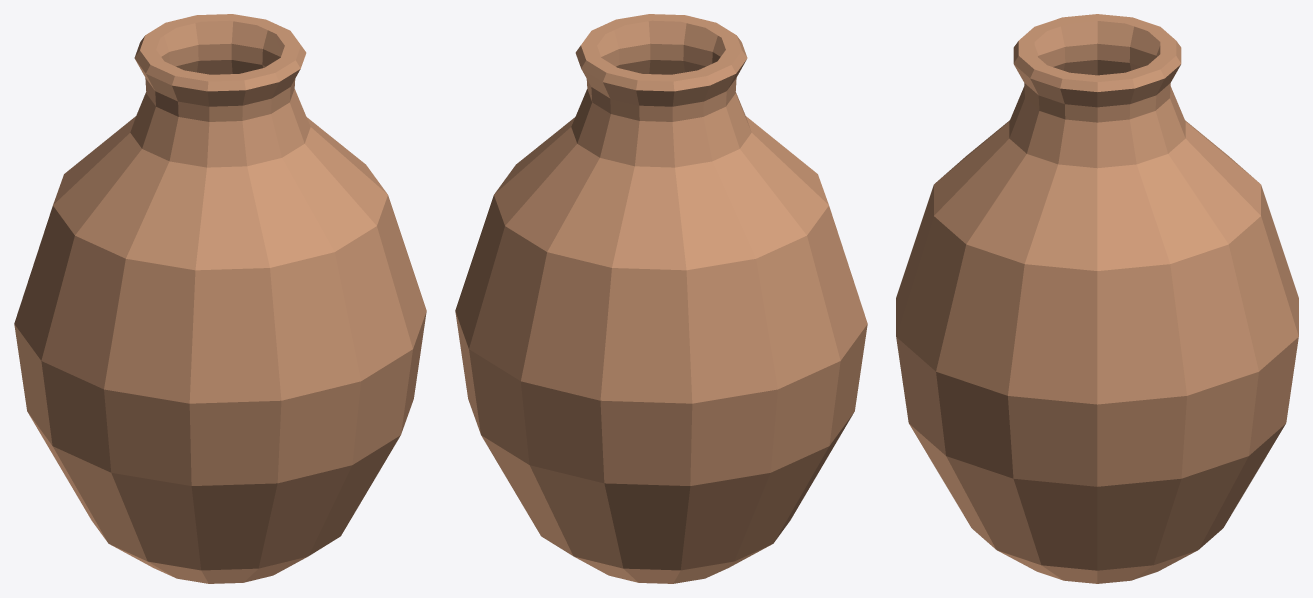
File: SM_DST_Prop_Pot_Clay_S.fbx
The picture shows the model from 3 angles, left to right: view 1: azimuth 30°, elevation 25°; view 2: azimuth 150°, elevation 25°; view 3: azimuth 270°, elevation 25°; orthographic projection.
Visible parts, largest first — view 1: SM_DST_Prop_Pot_Clay_S.002; view 2: SM_DST_Prop_Pot_Clay_S.002; view 3: SM_DST_Prop_Pot_Clay_S.002.
Boxes of the visible parts, <box> form: SM_DST_Prop_Pot_Clay_S.002: <box>14,14,426,583</box>; SM_DST_Prop_Pot_Clay_S.002: <box>455,14,867,583</box>; SM_DST_Prop_Pot_Clay_S.002: <box>896,14,1298,583</box>.
Size of the model in its own units: 0.352 by 0.473 by 0.3432.
